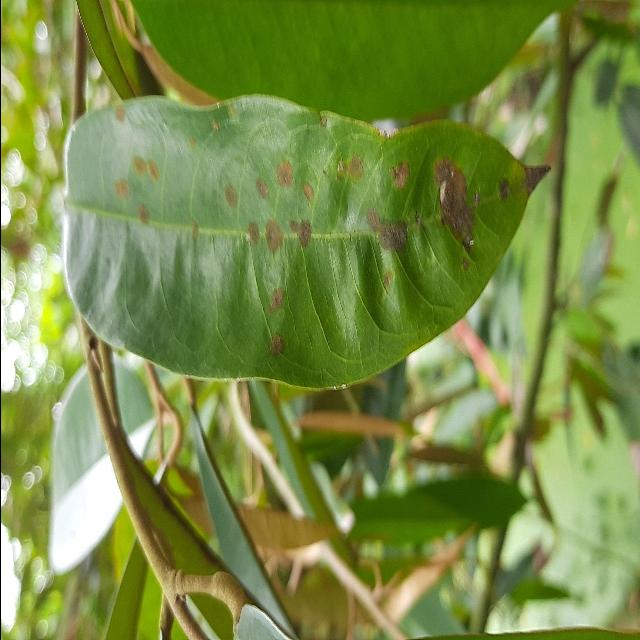Algal Leaf Spot: (53, 85, 560, 397)
